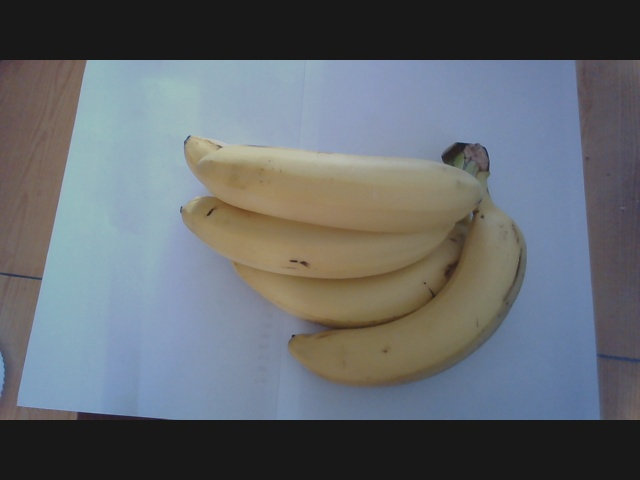banana: (183, 128, 537, 381)
